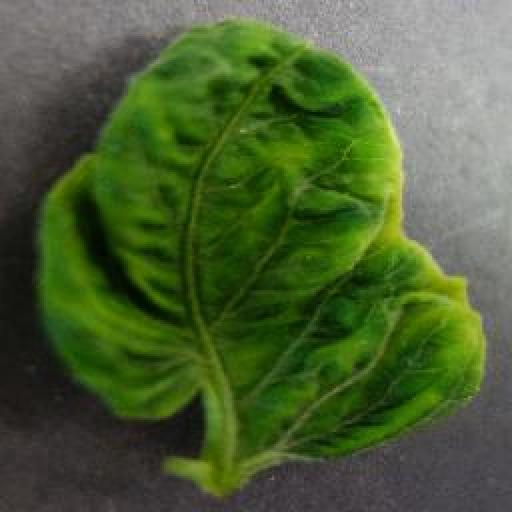disease_tomato: (40, 19, 486, 469)
